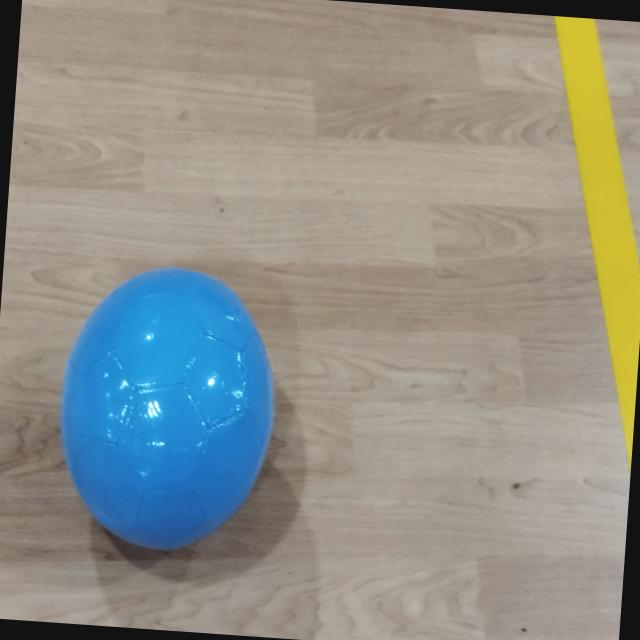blue_ball: (52, 261, 286, 558)
